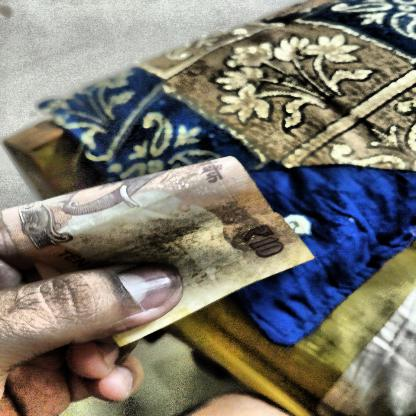Rs10: (232, 219, 296, 263)
